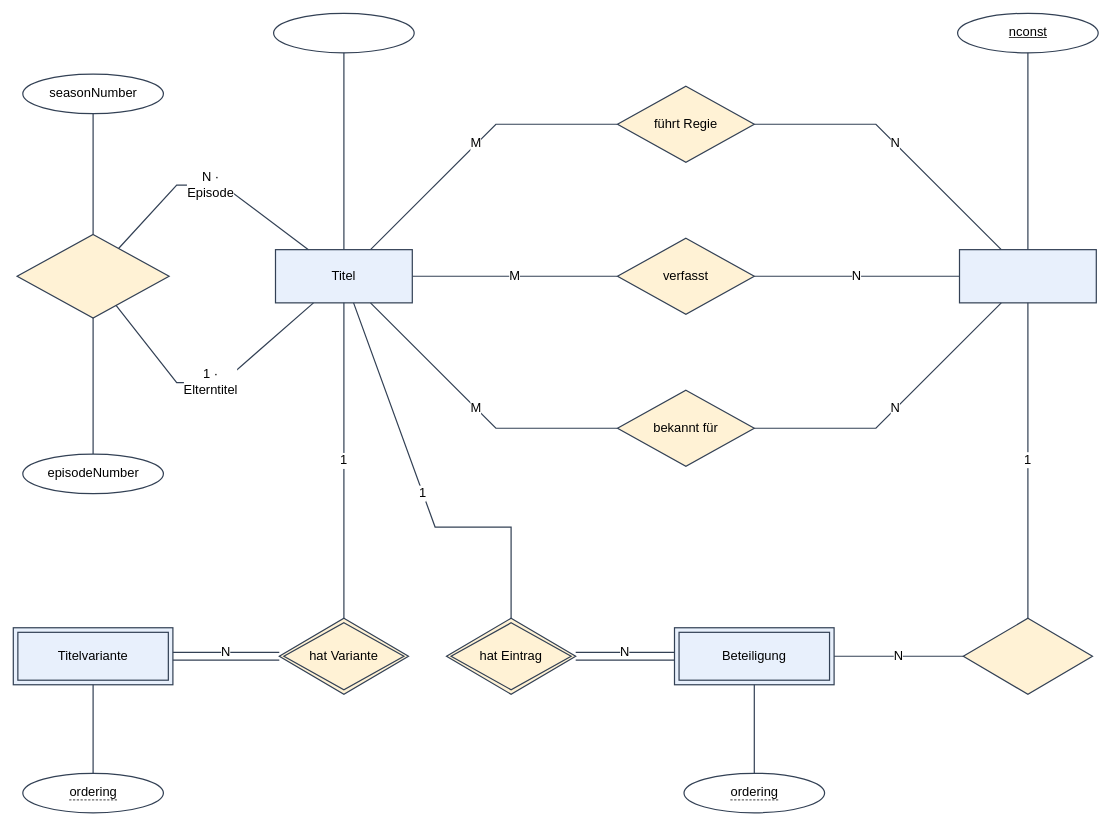
Some shapes in this 1113 by 827 pixel diagram are drawn without their labels. The shapes that lost their labels are listed below. From the top down, each one's centre as x and y in pixels, then its label:
At [343,32]: "tconst".
At [92,275]: "ist Episode von".
At [1028,276]: "Person".
At [1027,655]: "betrifft".
